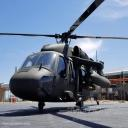helicopter: (6, 11, 126, 112)
